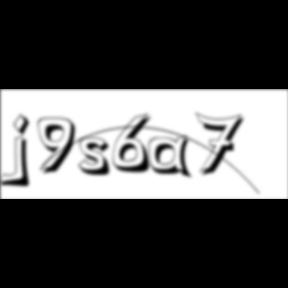6: (112, 112, 158, 176)
7: (196, 111, 251, 179)
9: (38, 117, 83, 177)
a: (149, 135, 197, 182)
j: (10, 113, 37, 191)
s: (79, 137, 118, 179)
